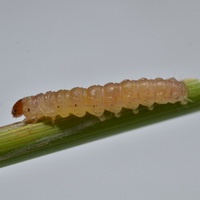insect: (12, 78, 187, 123)
